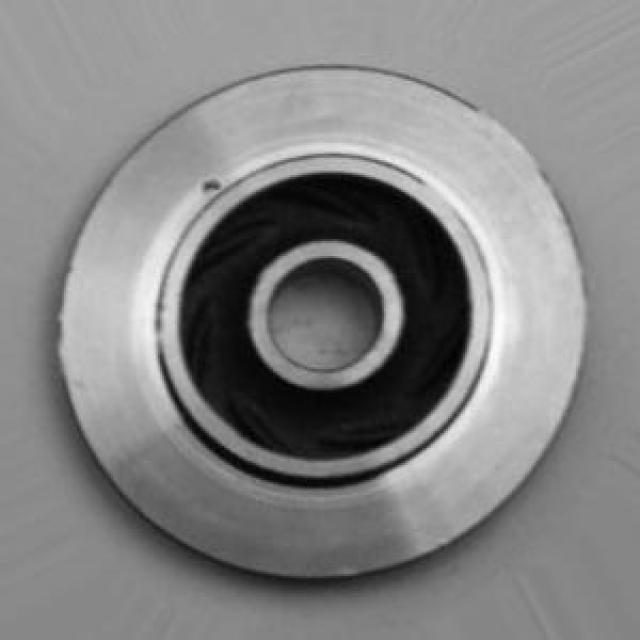Defect: (202, 169, 225, 198)
